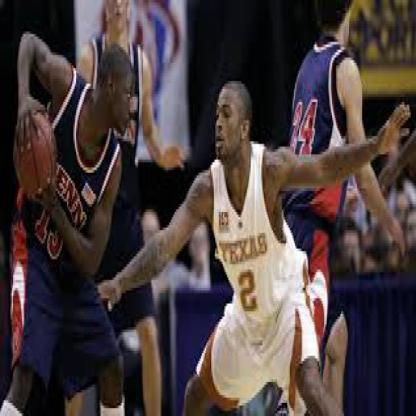basketball: (14, 113, 57, 194)
